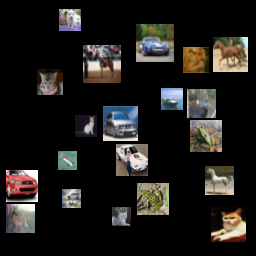airplane: (157, 20, 186, 49)
automobile: (200, 27, 222, 49), (180, 117, 199, 136)
bird: (162, 65, 181, 84)
cat: (11, 205, 37, 231)
deer: (212, 54, 250, 92), (194, 138, 229, 173), (210, 174, 245, 209), (15, 44, 50, 79), (66, 2, 95, 31), (5, 132, 24, 151), (126, 23, 145, 42)
dog: (24, 84, 62, 122), (63, 90, 89, 116), (58, 182, 80, 204), (149, 165, 171, 187)
frog: (121, 81, 153, 113)
ship: (2, 160, 31, 189), (40, 155, 66, 181), (99, 146, 118, 165)
